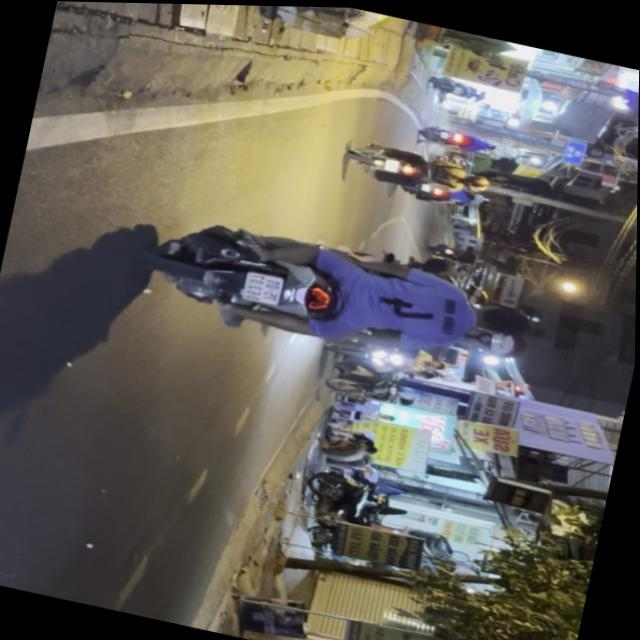helmet: (460, 322, 522, 361)
licenseplate: (137, 202, 548, 391)
motorcyclist: (466, 297, 540, 343)
nohelmet: (243, 271, 284, 306)
